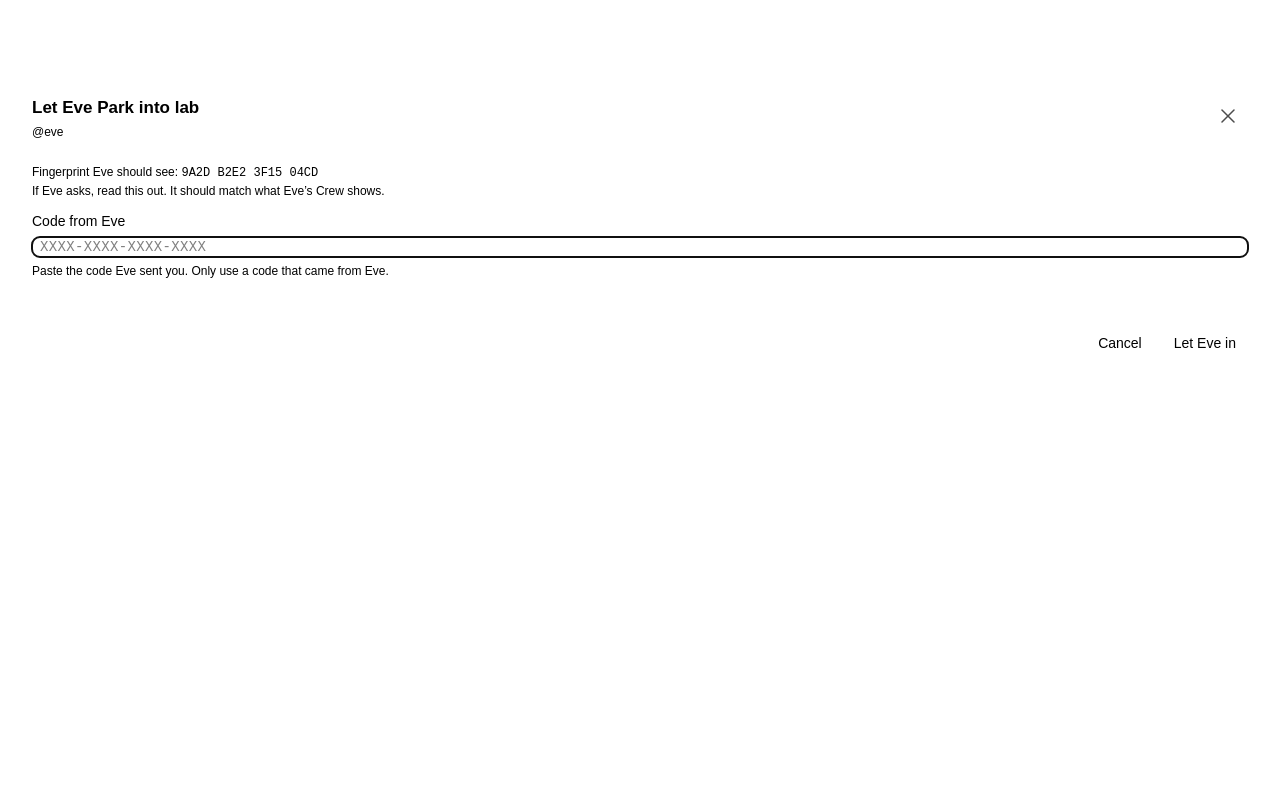
Scenario: LetInDialog, the fingerprint the joiner checks (QA Q2-04) › shows it above the code and with the result, to read out, with nothing to copy
The width and height of the screenshot is (1280, 800).
Type "7QK2M9XA3JTPWZ4D" into the field labelled "Code from Eve". click: point(640, 247)
box: [32,237,1248,257]
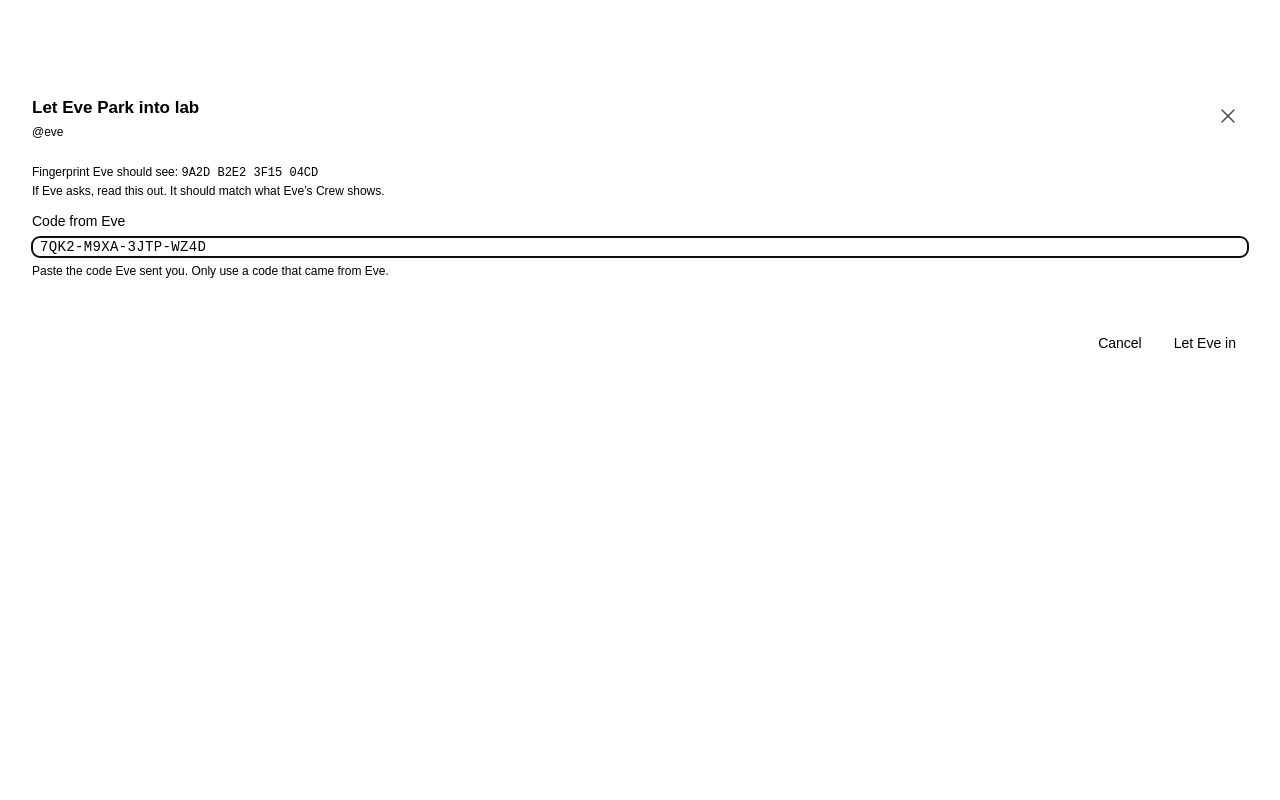
Click the button "Let Eve in". click: point(1205, 343)
box: [1162,333,1248,353]
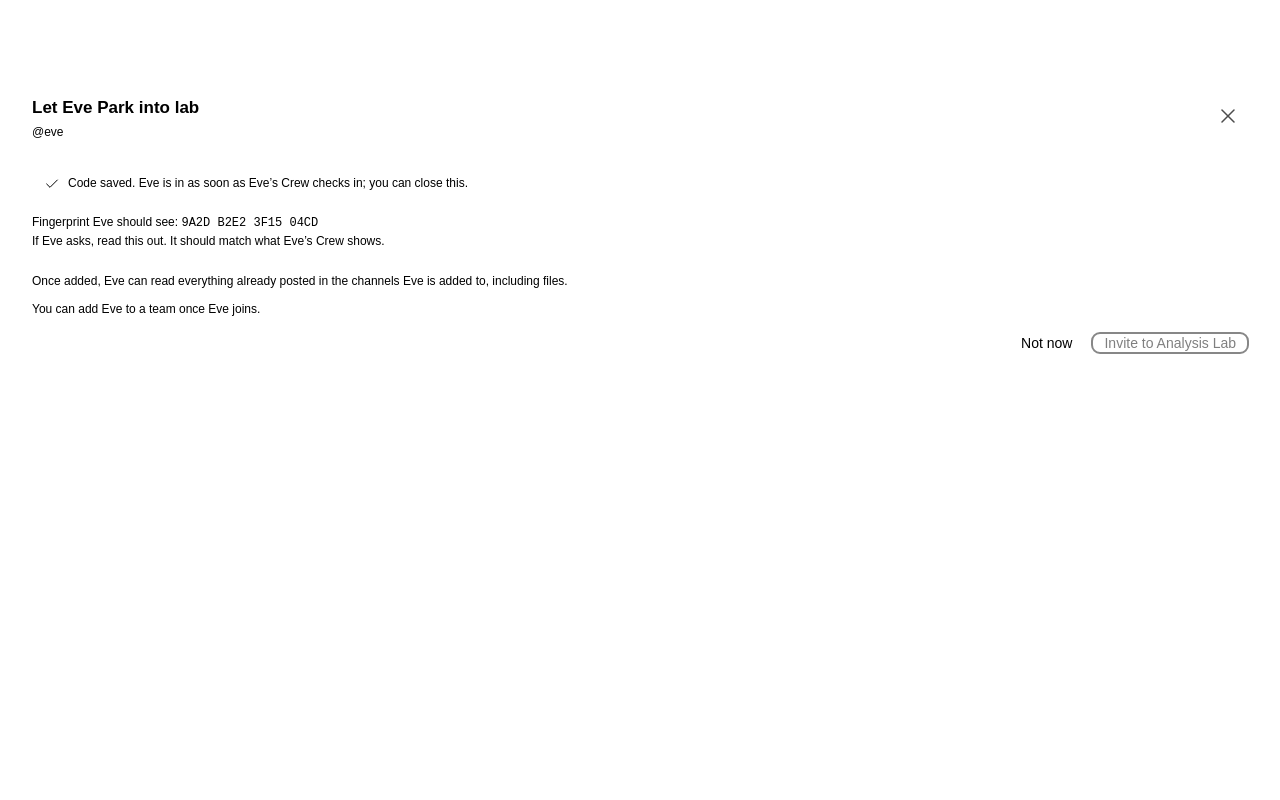
Result: the text "Code saved. Eve is in as soon as Eve’s Crew checks in; you can close this." is shown at [68,176,468,190]
